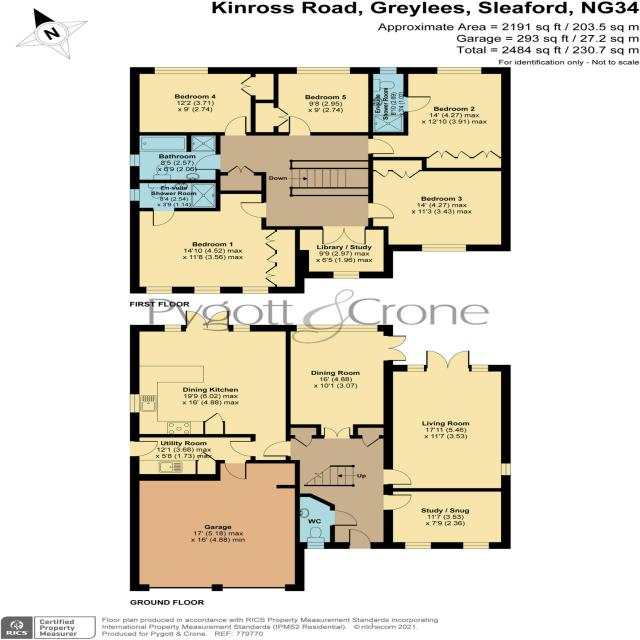DOOR: (221, 459, 250, 482), (401, 95, 435, 114), (236, 201, 269, 220), (128, 439, 159, 459), (262, 438, 293, 458), (150, 206, 178, 228), (226, 440, 258, 459), (347, 527, 373, 550), (366, 137, 397, 156), (328, 509, 360, 527), (222, 115, 248, 137), (287, 115, 313, 137), (366, 201, 396, 220), (381, 494, 414, 511), (382, 468, 414, 485)
DOUBLE DOOR: (184, 309, 231, 332), (424, 349, 470, 372)
ROOM: (129, 309, 291, 464), (128, 190, 310, 295), (382, 350, 512, 492), (366, 67, 512, 173), (284, 322, 411, 439), (367, 156, 512, 252), (129, 66, 256, 137), (381, 488, 512, 550), (271, 66, 374, 136)
WINDOW: (294, 323, 380, 333), (152, 65, 210, 76), (294, 66, 352, 76), (435, 65, 484, 75), (419, 243, 469, 252), (331, 270, 361, 280), (144, 285, 174, 295), (127, 393, 141, 414), (193, 285, 222, 295), (241, 286, 271, 295), (461, 541, 491, 550), (403, 541, 432, 550), (231, 323, 254, 334), (378, 65, 400, 75), (162, 323, 184, 333), (470, 363, 490, 373), (499, 462, 513, 476), (128, 188, 141, 203), (128, 154, 141, 168), (406, 364, 426, 373), (306, 541, 325, 550)
